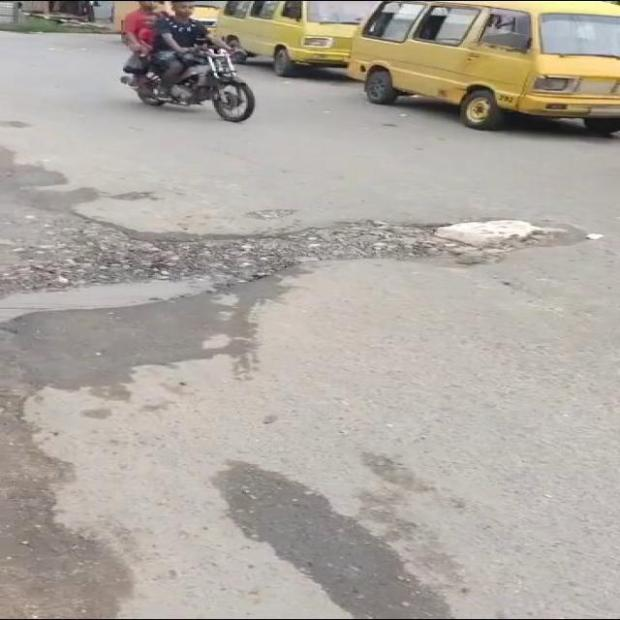lubang: (0, 220, 586, 297), (248, 209, 295, 220)
